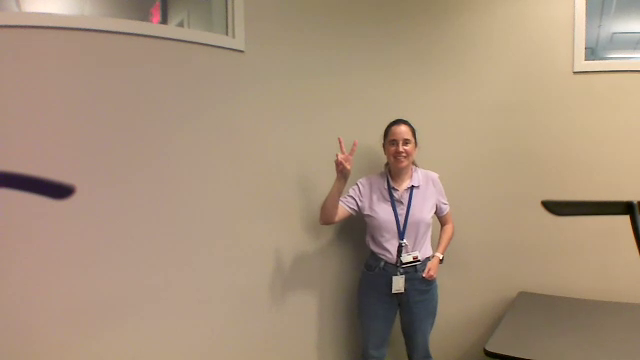peace: (329, 135, 361, 178)
